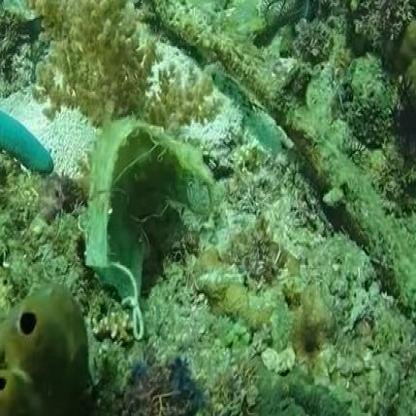misc: (74, 112, 211, 322)
